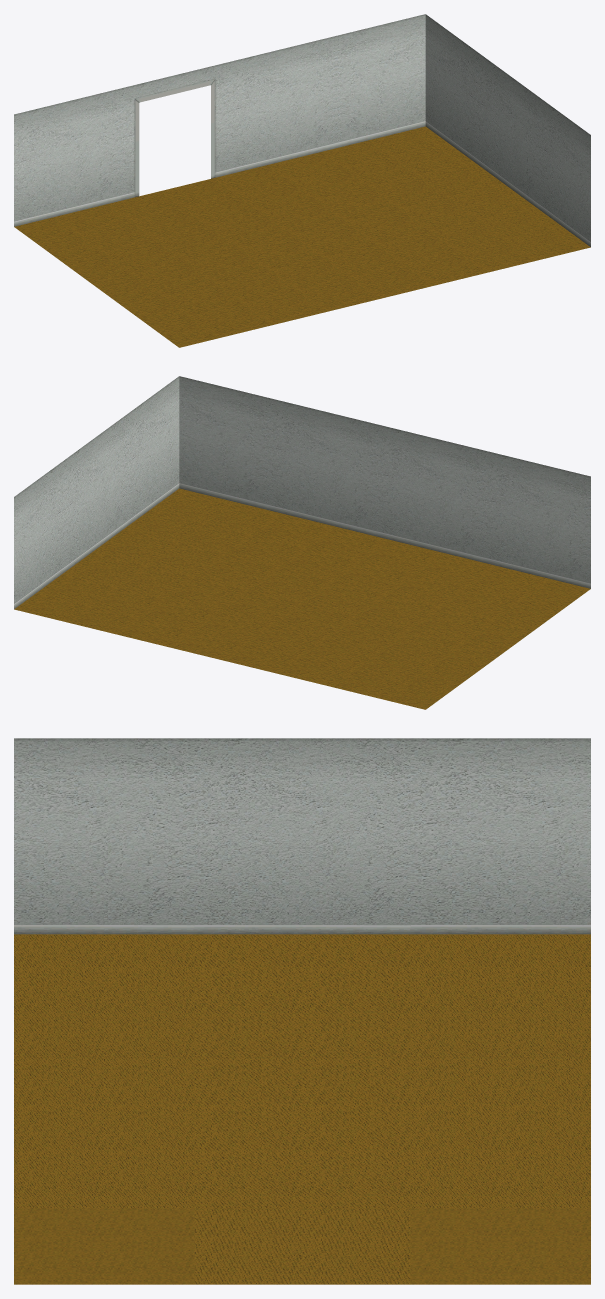
The model's file is ControlTowerInt02B.glb.
3 views of the same model, one above another, from view 1: azimuth 30°, elevation 25°; view 2: azimuth 150°, elevation 25°; view 3: azimuth 270°, elevation 25° (orthographic). The views are drawn at different scales.
Visible parts, largest first — view 1: CONTROLTOWERINT02B; view 2: CONTROLTOWERINT02B; view 3: CONTROLTOWERINT02B.
Part boxes in pixels (box(x1,y1,x2,y2)): CONTROLTOWERINT02B: box(14, 14, 590, 347); CONTROLTOWERINT02B: box(14, 376, 590, 709); CONTROLTOWERINT02B: box(14, 738, 590, 1284).
Bounding box in the file's own units: 11.5 × 3 × 8.
4 materials, 4 textured.
